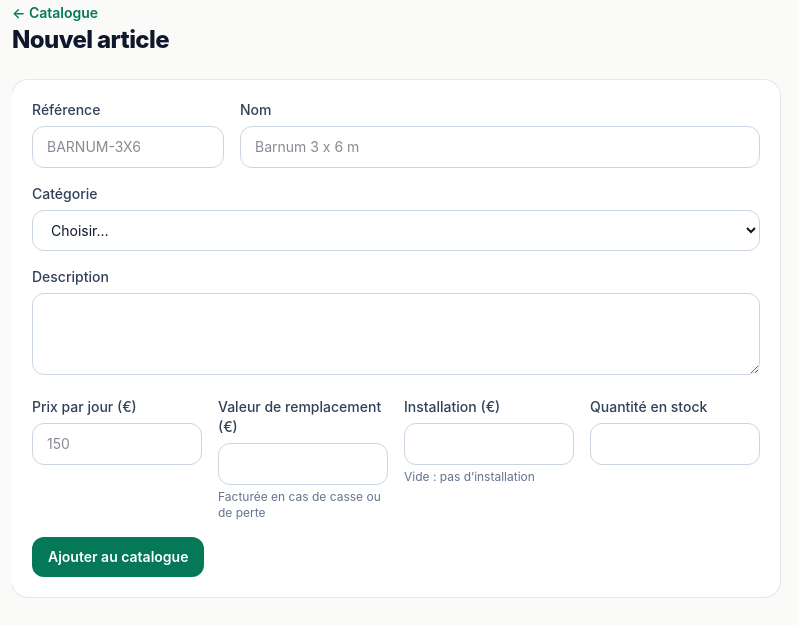
Catalogue (US-03) › refuse un montant mal ecrit avant meme de l envoyer
Type "cent euros" into the field labelled "Prix par jour (€)" at {"x": 117, "y": 444}, box [32, 423, 202, 465]
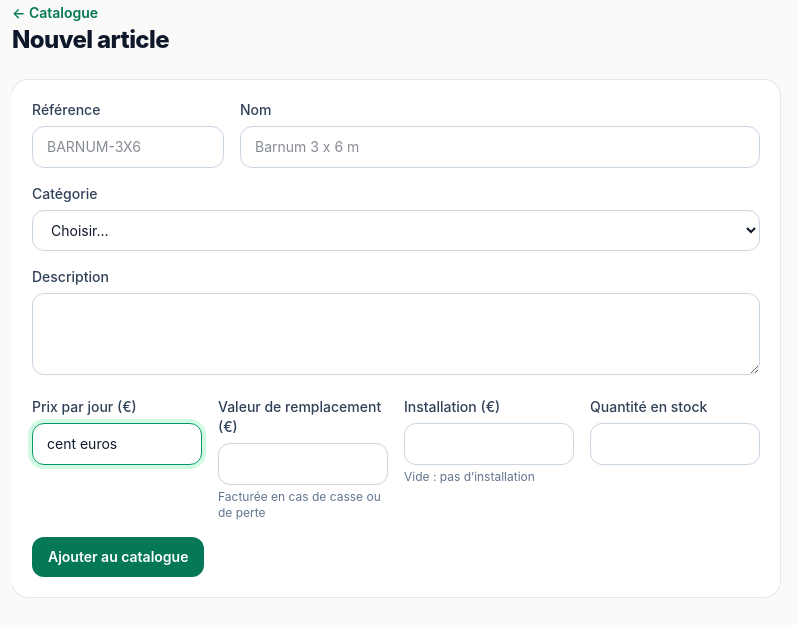
Click the button "Ajouter au catalogue" at {"x": 118, "y": 557}, box [32, 537, 204, 577]
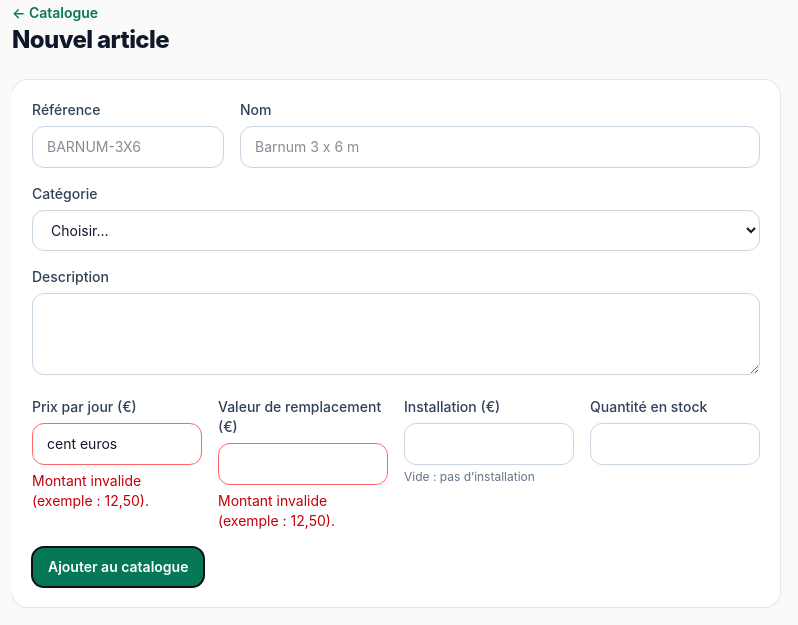
Expected: the text "Montant invalide (exemple : 12,50)." below "Prix par jour (€)" is shown, [32, 472, 149, 509]
